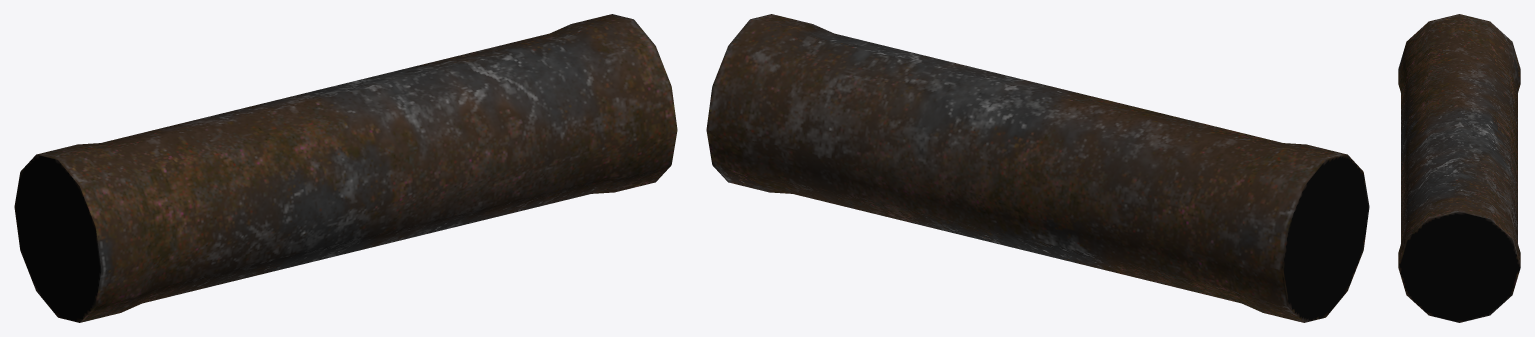
File: NM_BigTube_01.fbx
3 renders of one model, left to right at view 1: azimuth 30°, elevation 25°; view 2: azimuth 150°, elevation 25°; view 3: azimuth 270°, elevation 25°, orthographic. The views are drawn at different scales.
Visible parts, largest first — view 1: BigTube_01_low008; view 2: BigTube_01_low008; view 3: BigTube_01_low008.
Boxes of the visible parts, left/top/right/bottom form: BigTube_01_low008: left=14, top=14, right=677, bottom=322; BigTube_01_low008: left=706, top=14, right=1369, bottom=322; BigTube_01_low008: left=1398, top=14, right=1520, bottom=322.
Bounding box in the file's own units: 117 × 30.54 × 30.54.
